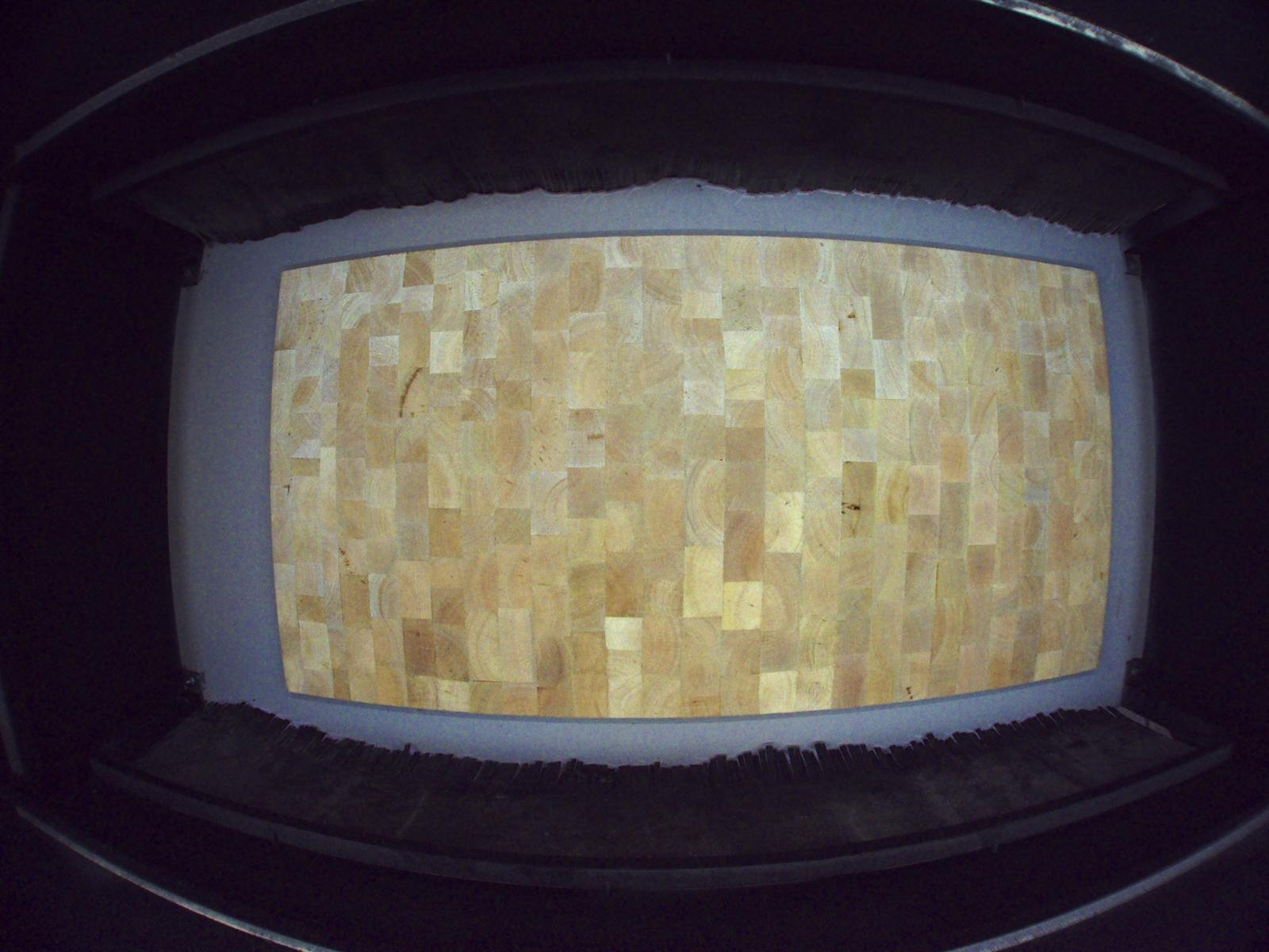sheck_ecuatoriano: (846, 460, 862, 539)
